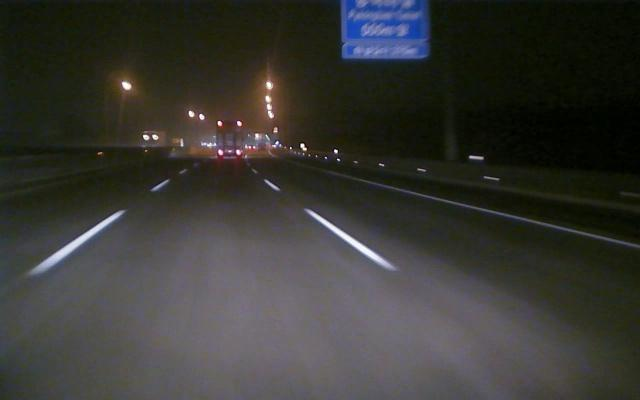lane: (340, 173, 637, 249), (20, 181, 166, 276), (263, 180, 402, 271)
